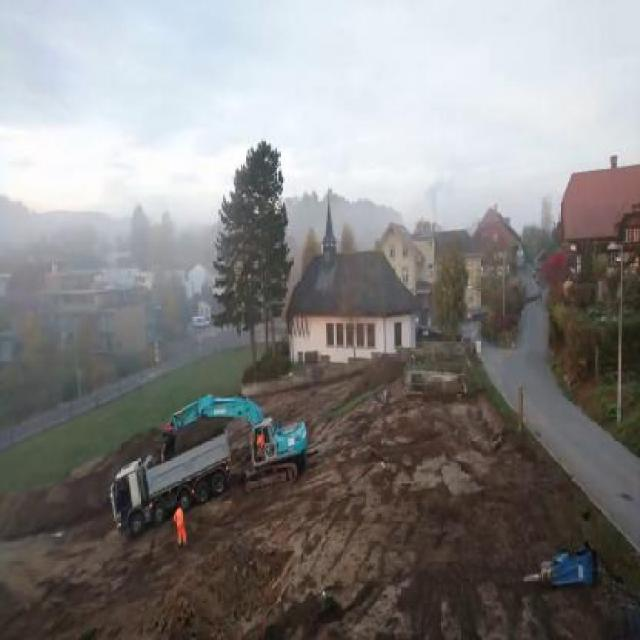Dump Truck: (110, 426, 232, 536)
Excavator: (157, 392, 311, 493)
